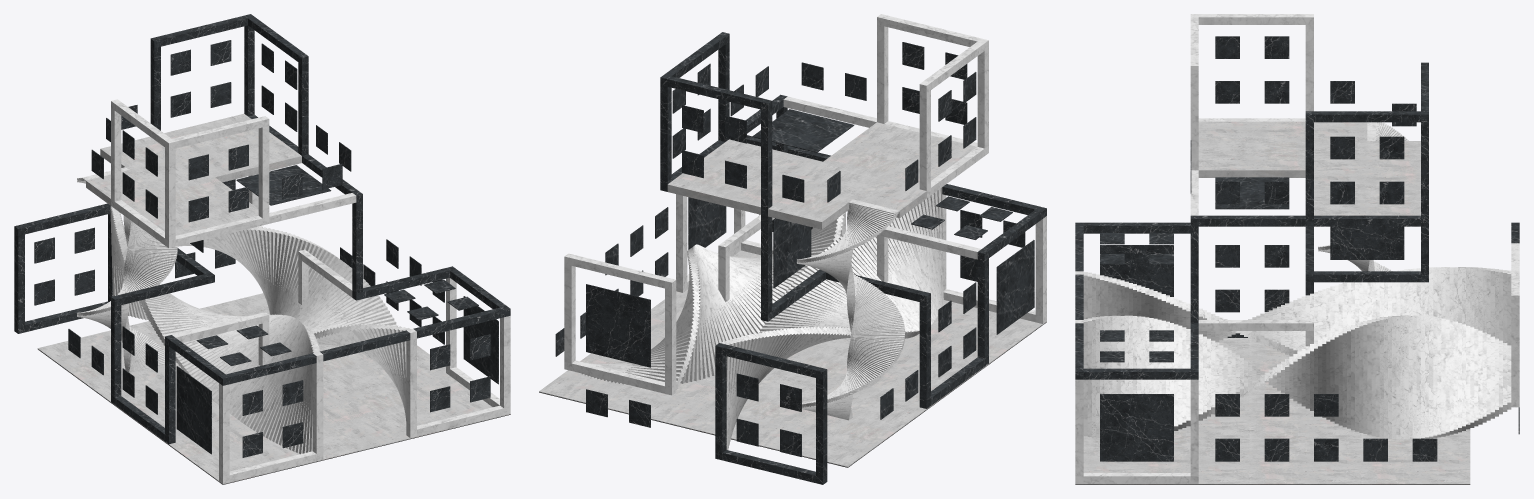
The model's file is ROOM_1_Idol.glb.
The picture shows the model from 3 angles, left to right: view 1: azimuth 30°, elevation 25°; view 2: azimuth 150°, elevation 25°; view 3: azimuth 270°, elevation 25°; orthographic projection. The views are drawn at different scales.
Visible parts, largest first — view 1: ROOM; view 2: ROOM; view 3: ROOM.
Part boxes in pixels (<box>): ROOM: <box>14,14,510,484</box>; ROOM: <box>539,14,1046,484</box>; ROOM: <box>1075,14,1519,484</box>.
Bounding box in the file's own units: 43.02 × 43.15 × 54.
4 materials, 3 textured.
